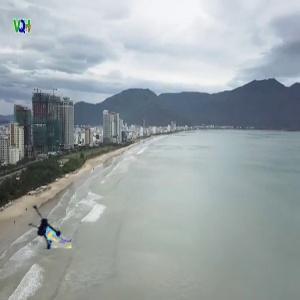drone: (18, 198, 74, 254)
